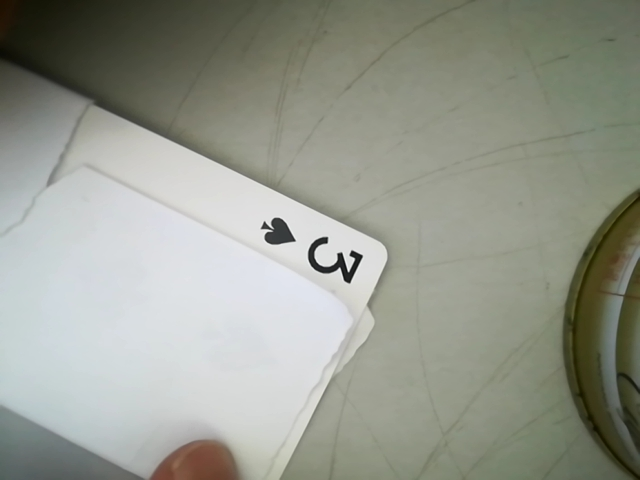ht 3: (251, 214, 381, 289)
